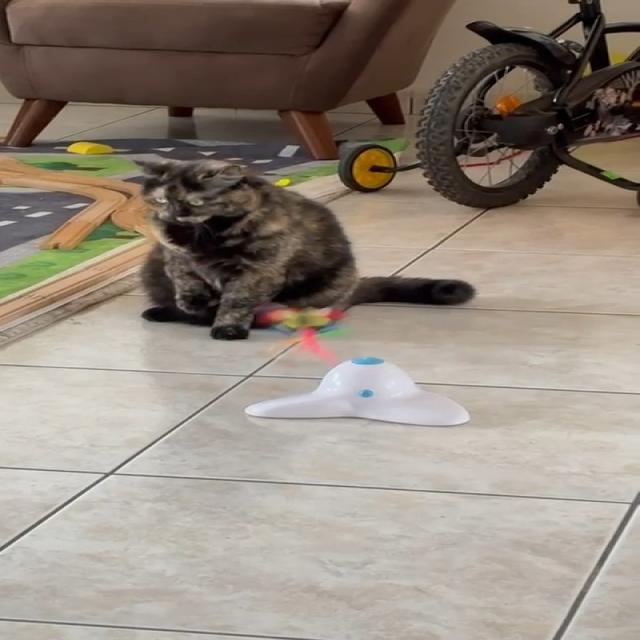authorized: (131, 157, 476, 340)
